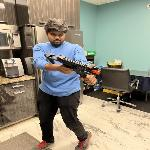Senapan: (35, 40, 113, 92)
